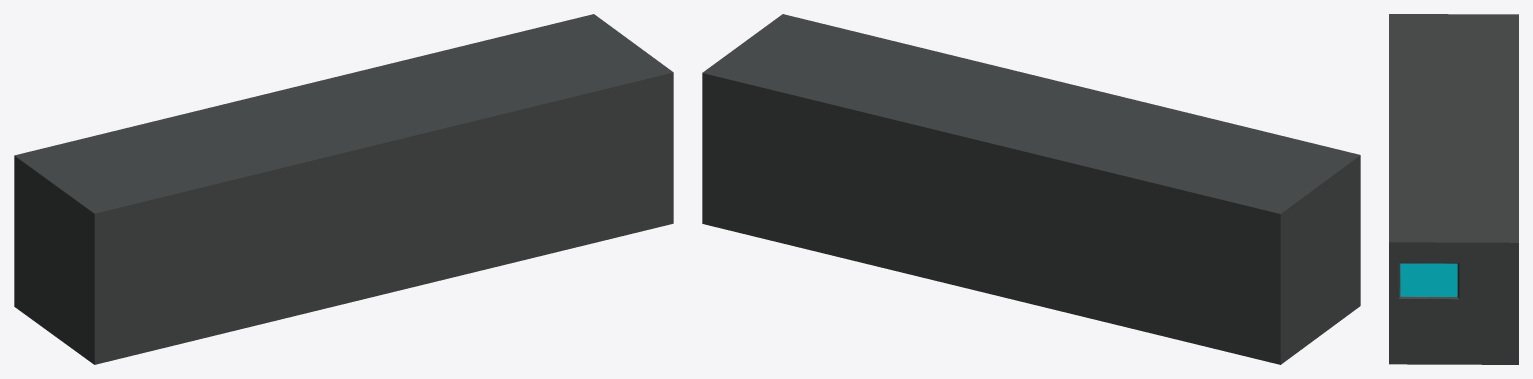
Rendered from left building.obj.
3 views of the same model, side by side, from view 1: azimuth 30°, elevation 25°; view 2: azimuth 150°, elevation 25°; view 3: azimuth 270°, elevation 25° (orthographic). The views are drawn at different scales.
Parts seen in each view (by area): view 1: left_building.002_Cube.011; view 2: left_building.002_Cube.011; view 3: left_building.002_Cube.011.
Boxes of the visible parts, x1,y1,x2,y2 form: left_building.002_Cube.011: [14, 14, 673, 364]; left_building.002_Cube.011: [702, 14, 1360, 364]; left_building.002_Cube.011: [1389, 14, 1518, 364].
Size of the model in its own units: 38.56 by 9.64 by 9.25.
